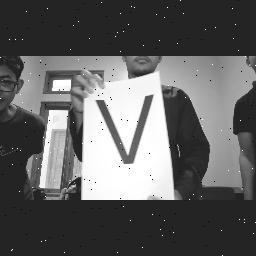v: (96, 93, 170, 171)
